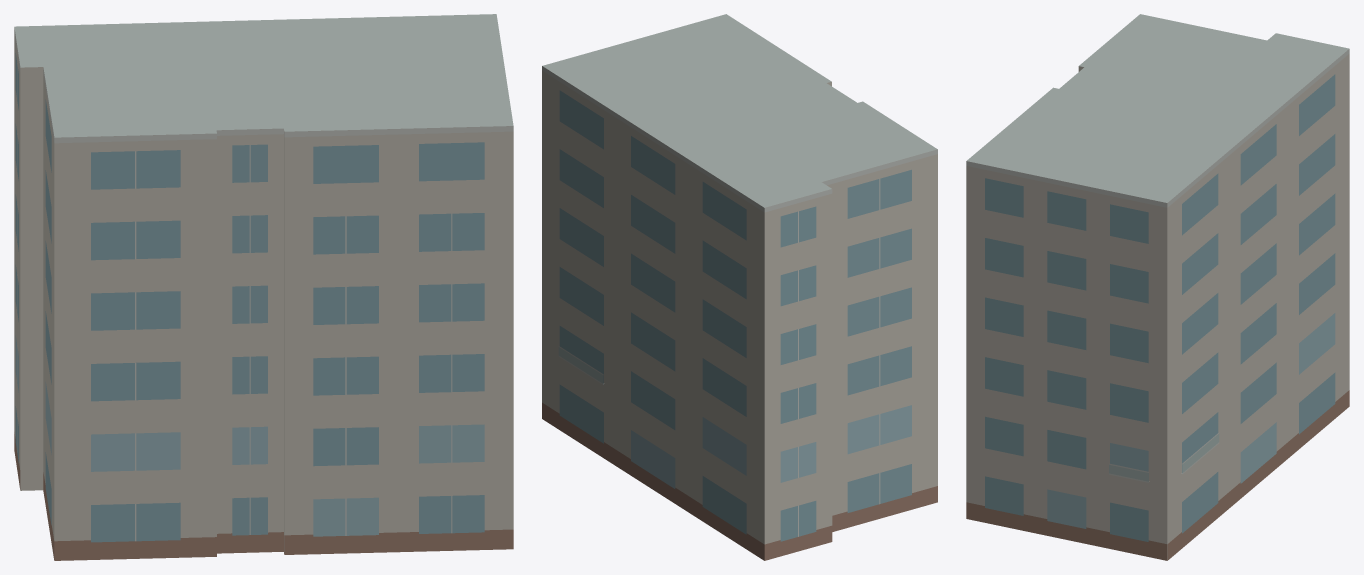
The model's file is survey-upis-32693513.glb.
The picture shows the model from 3 angles, left to right: view 1: azimuth 30°, elevation 25°; view 2: azimuth 150°, elevation 25°; view 3: azimuth 270°, elevation 25°; orthographic projection. The views are drawn at different scales.
Visible parts, largest first — view 1: survey-upis-32693513.tmp; view 2: survey-upis-32693513.tmp; view 3: survey-upis-32693513.tmp.
Part boxes in pixels (x1,y1,x2,y2): survey-upis-32693513.tmp: (14,14,513,560); survey-upis-32693513.tmp: (542,14,937,560); survey-upis-32693513.tmp: (966,14,1349,560).
Size of the model in its own units: 20.75 by 18.3 by 17.78.
